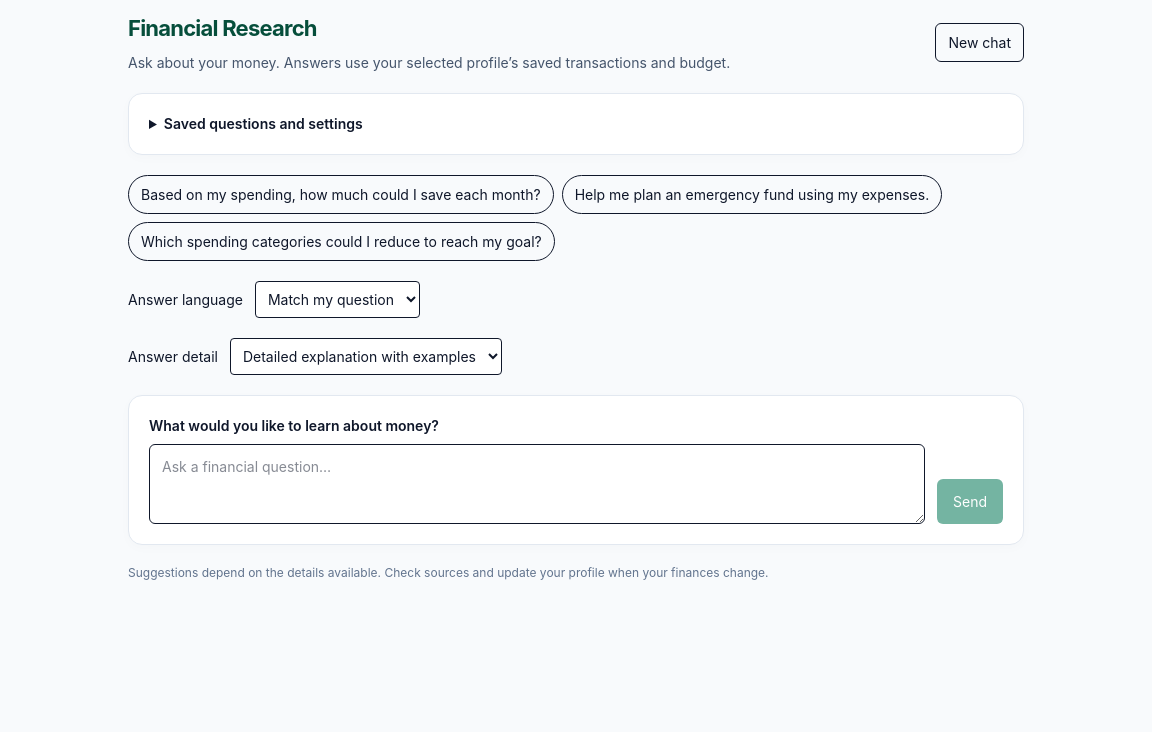
it: Financial Research page › shows a search configuration state when the provider key is missing
The width and height of the screenshot is (1152, 732).
Type "TEST FIXTURE: educational question" into the text box labelled "What would you like to learn about money?".
click(537, 484); type("TEST FIXTURE: educational question")  # box [149,444,925,524]
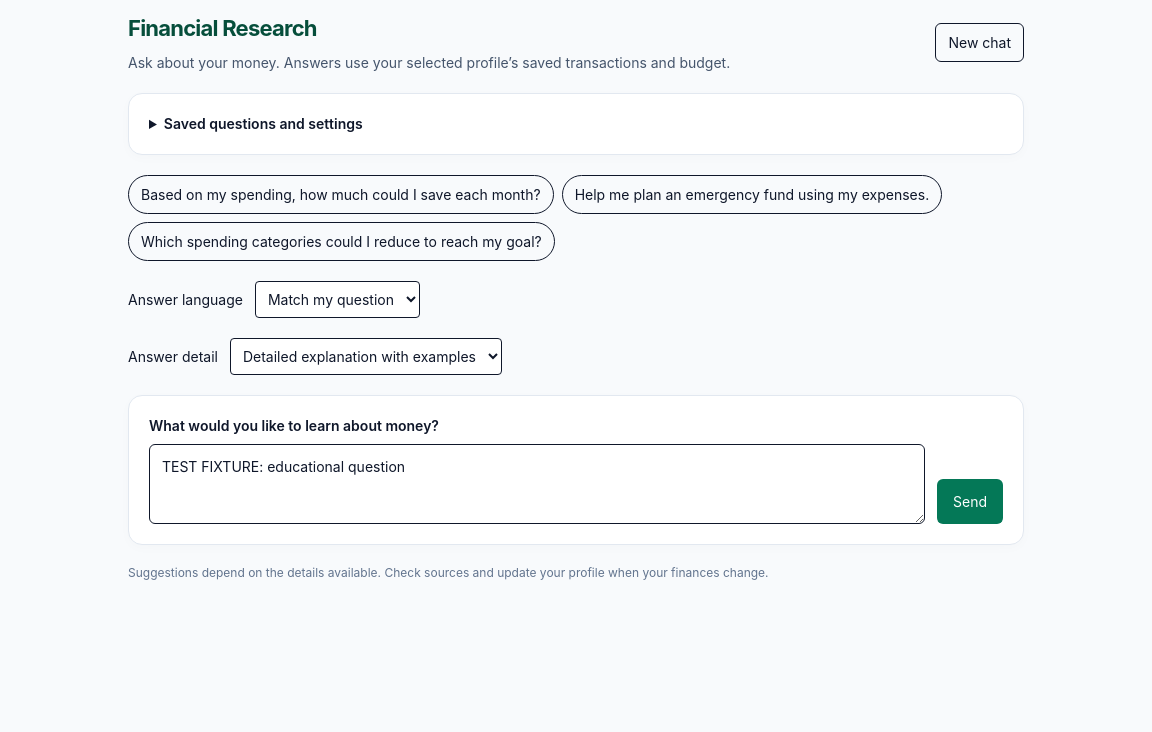
Click the button "Send".
click(970, 502)  # box [937,479,1003,524]
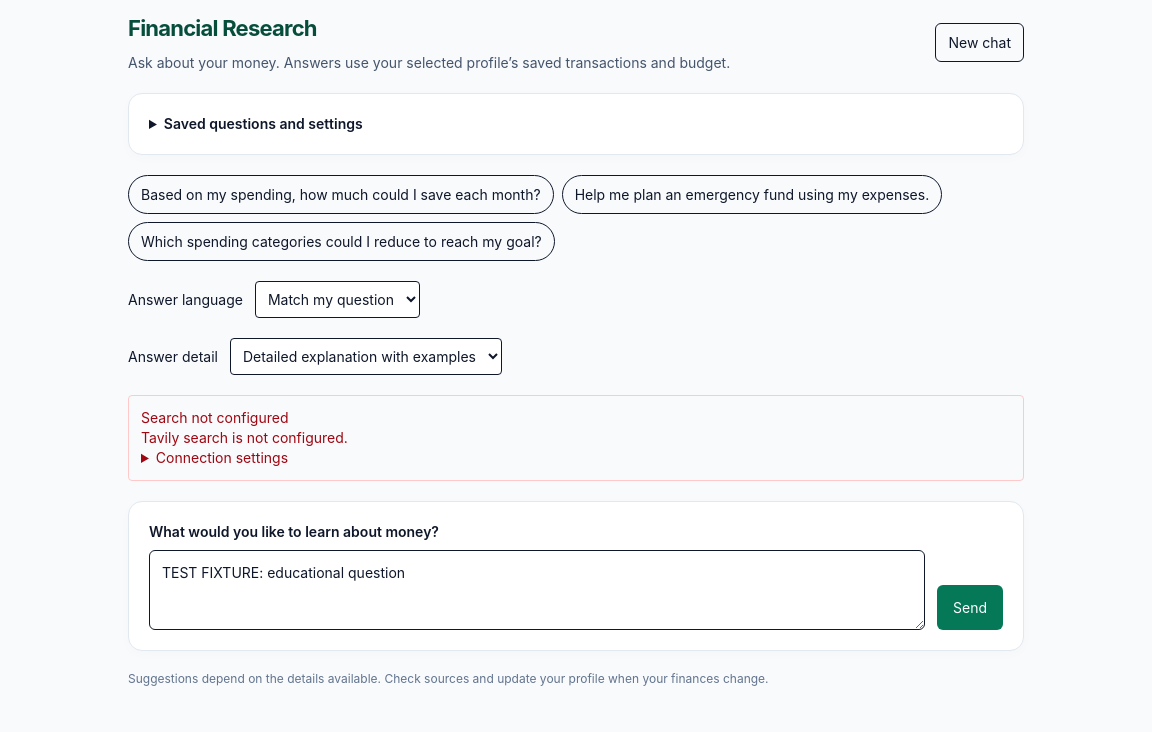
Expected: the text "Search not configured" is shown, [141,409,288,426]
Expected: the text "TAVILY_API_KEY" is shown, [141,469,512,486]
